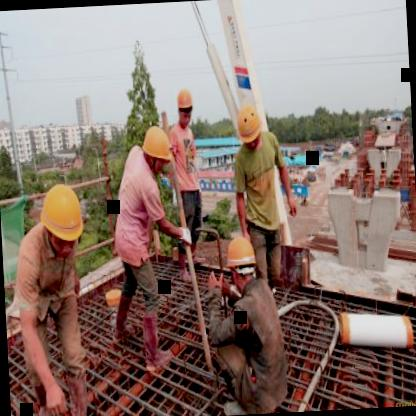helmet: (36, 177, 88, 259), (224, 231, 258, 292), (234, 101, 266, 152), (141, 124, 172, 176), (173, 80, 197, 130)
